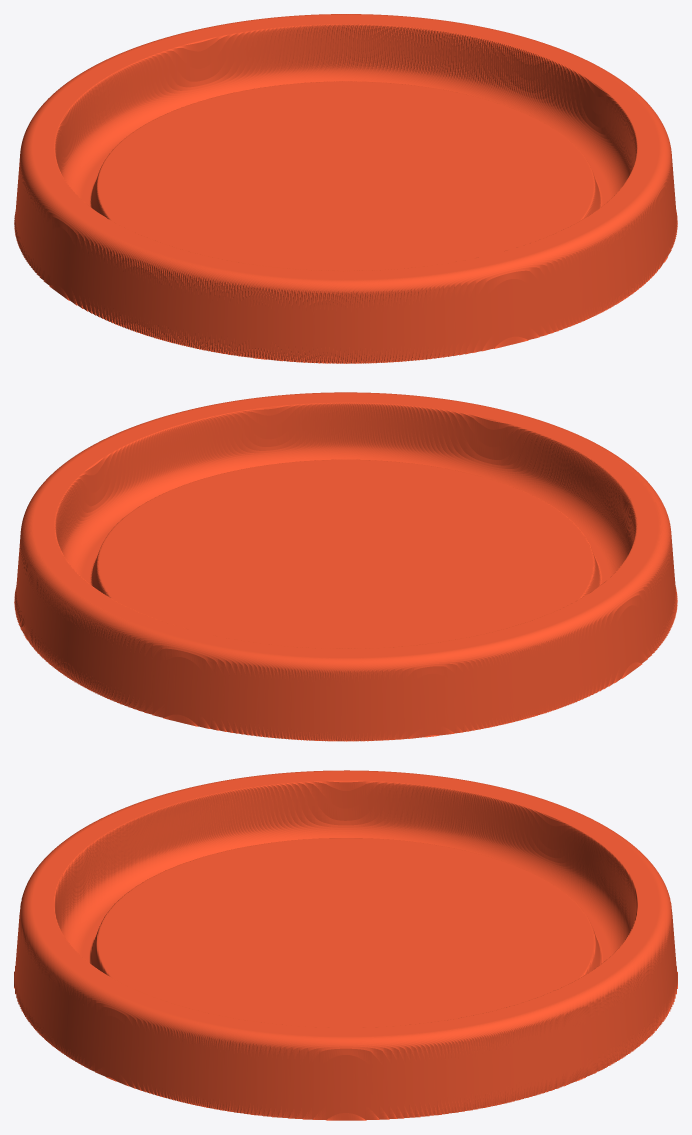
Rendered from mold.glb.
3 renders of one model, top to bottom at view 1: azimuth 30°, elevation 25°; view 2: azimuth 150°, elevation 25°; view 3: azimuth 270°, elevation 25°, orthographic.
Parts seen in each view (by area): view 1: geometry_0; view 2: geometry_0; view 3: geometry_0.
Boxes of the visible parts, x1,y1,x2,y2 form: geometry_0: (14,14,677,363); geometry_0: (14,392,677,741); geometry_0: (14,770,677,1120).
Size of the model in its own units: 0.1307 by 0.0165 by 0.1307.
